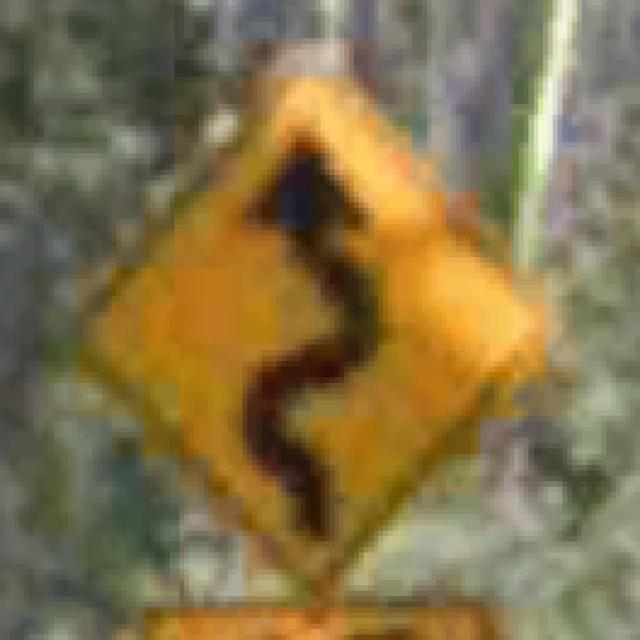Banyak Tikungan Pertama Kiri: (53, 44, 543, 602)
